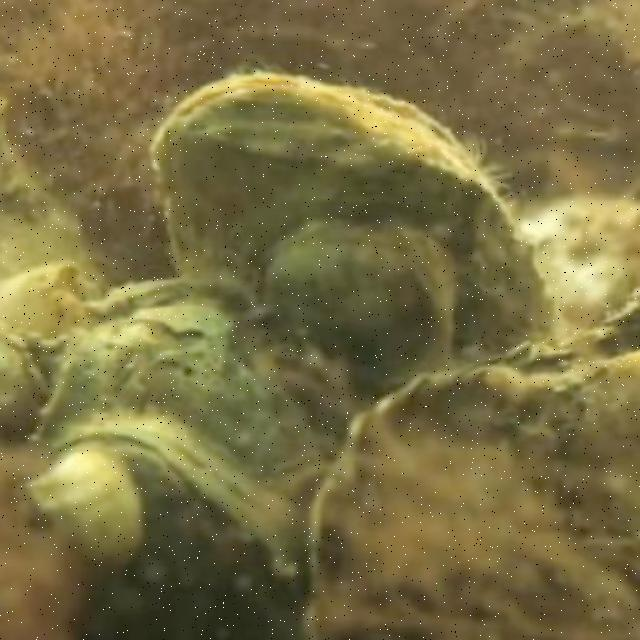Oyster-Closed: (156, 72, 559, 358), (306, 360, 638, 638), (28, 277, 366, 531), (18, 413, 310, 638), (262, 225, 458, 382)
